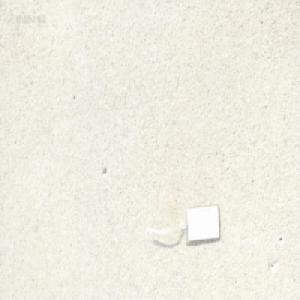LuggageTag: (145, 202, 220, 244)
